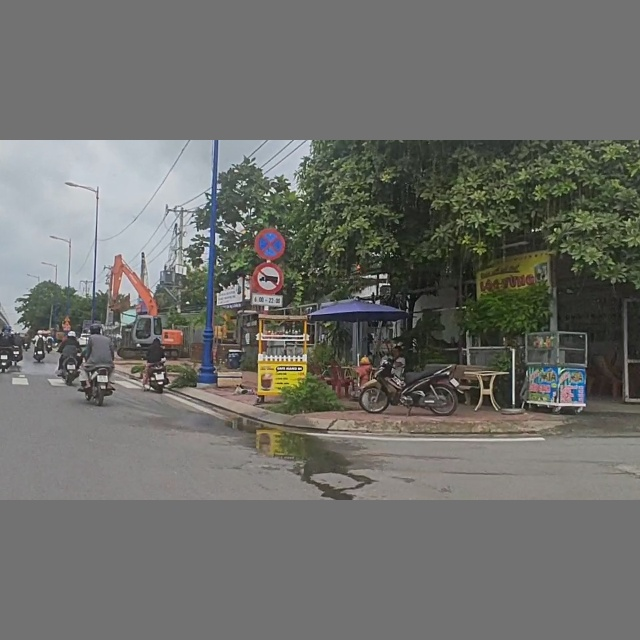B.8a: (253, 263, 283, 294)
P.130: (253, 228, 285, 259)
